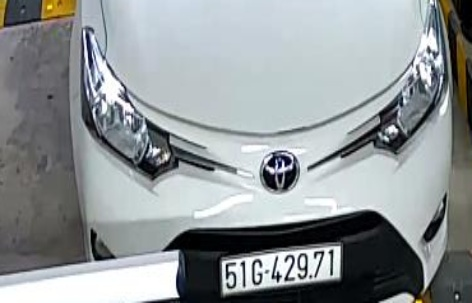plate: (201, 241, 354, 296)
